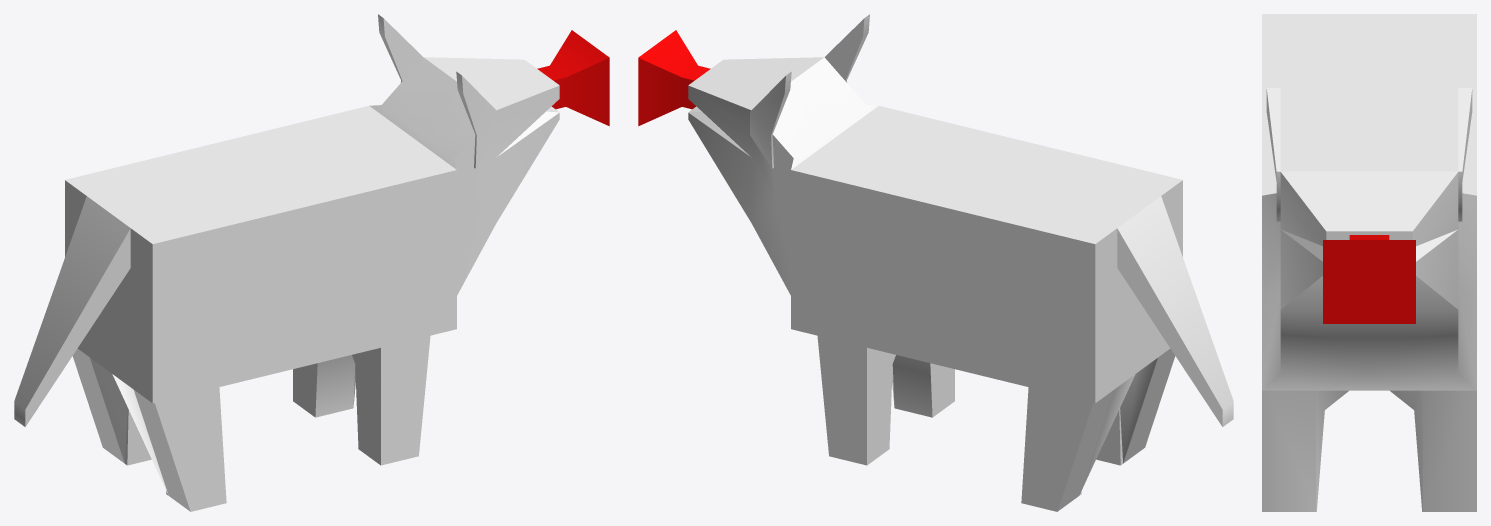
File: Player.obj
3 views of the same model, side by side, from view 1: azimuth 30°, elevation 25°; view 2: azimuth 150°, elevation 25°; view 3: azimuth 270°, elevation 25° (orthographic). The views are drawn at different scales.
Parts seen in each view (by area): view 1: Cube; view 2: Cube; view 3: Cube.
Boxes of the visible parts, bbox=[...] form: Cube: bbox=[14, 14, 609, 511]; Cube: bbox=[638, 14, 1233, 511]; Cube: bbox=[1262, 14, 1476, 511].
Size of the model in its own units: 18768 by 11571 by 5000.
